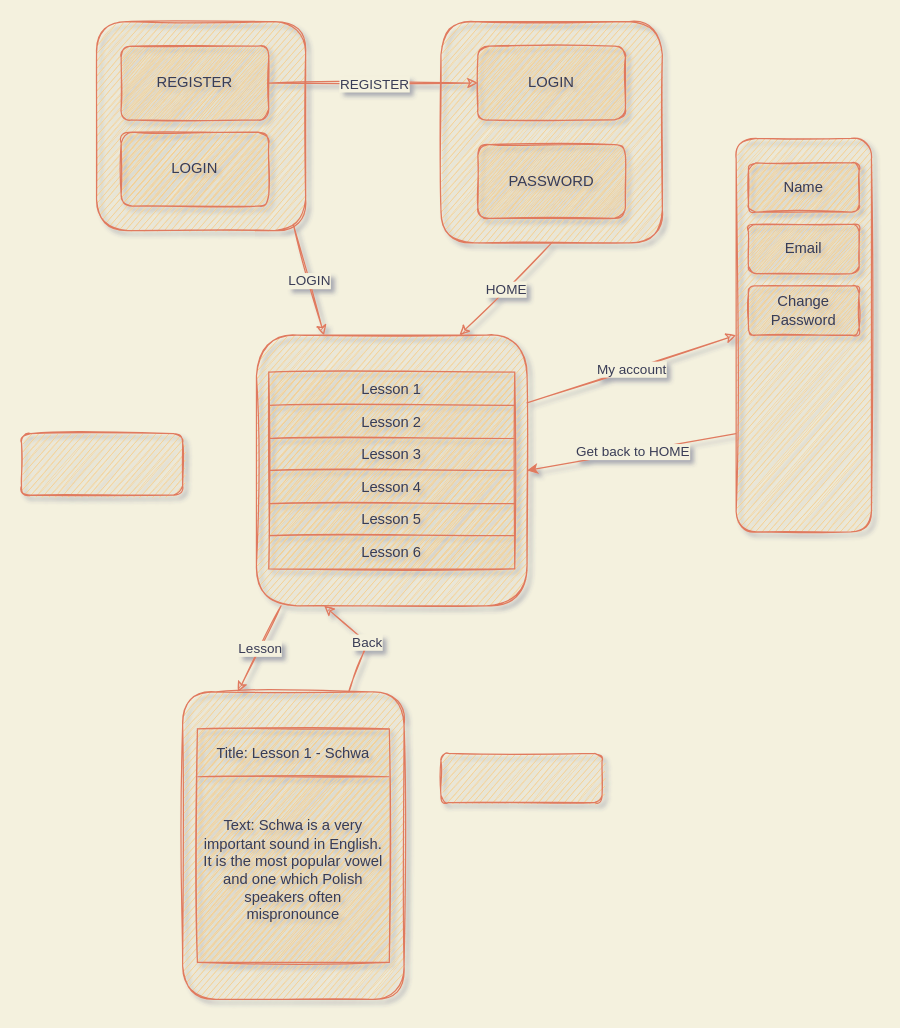
Some shapes in this 900 by 1028 pixel diagram are drawn without their labels. The shapes that lost their labels are listed below. From the top down, each one's centre as x and y in pixels, then its label:
At point 101,463: "Post and delet enpoint for lessons is available".
At point 521,777: "Marked if lesson is completed".
